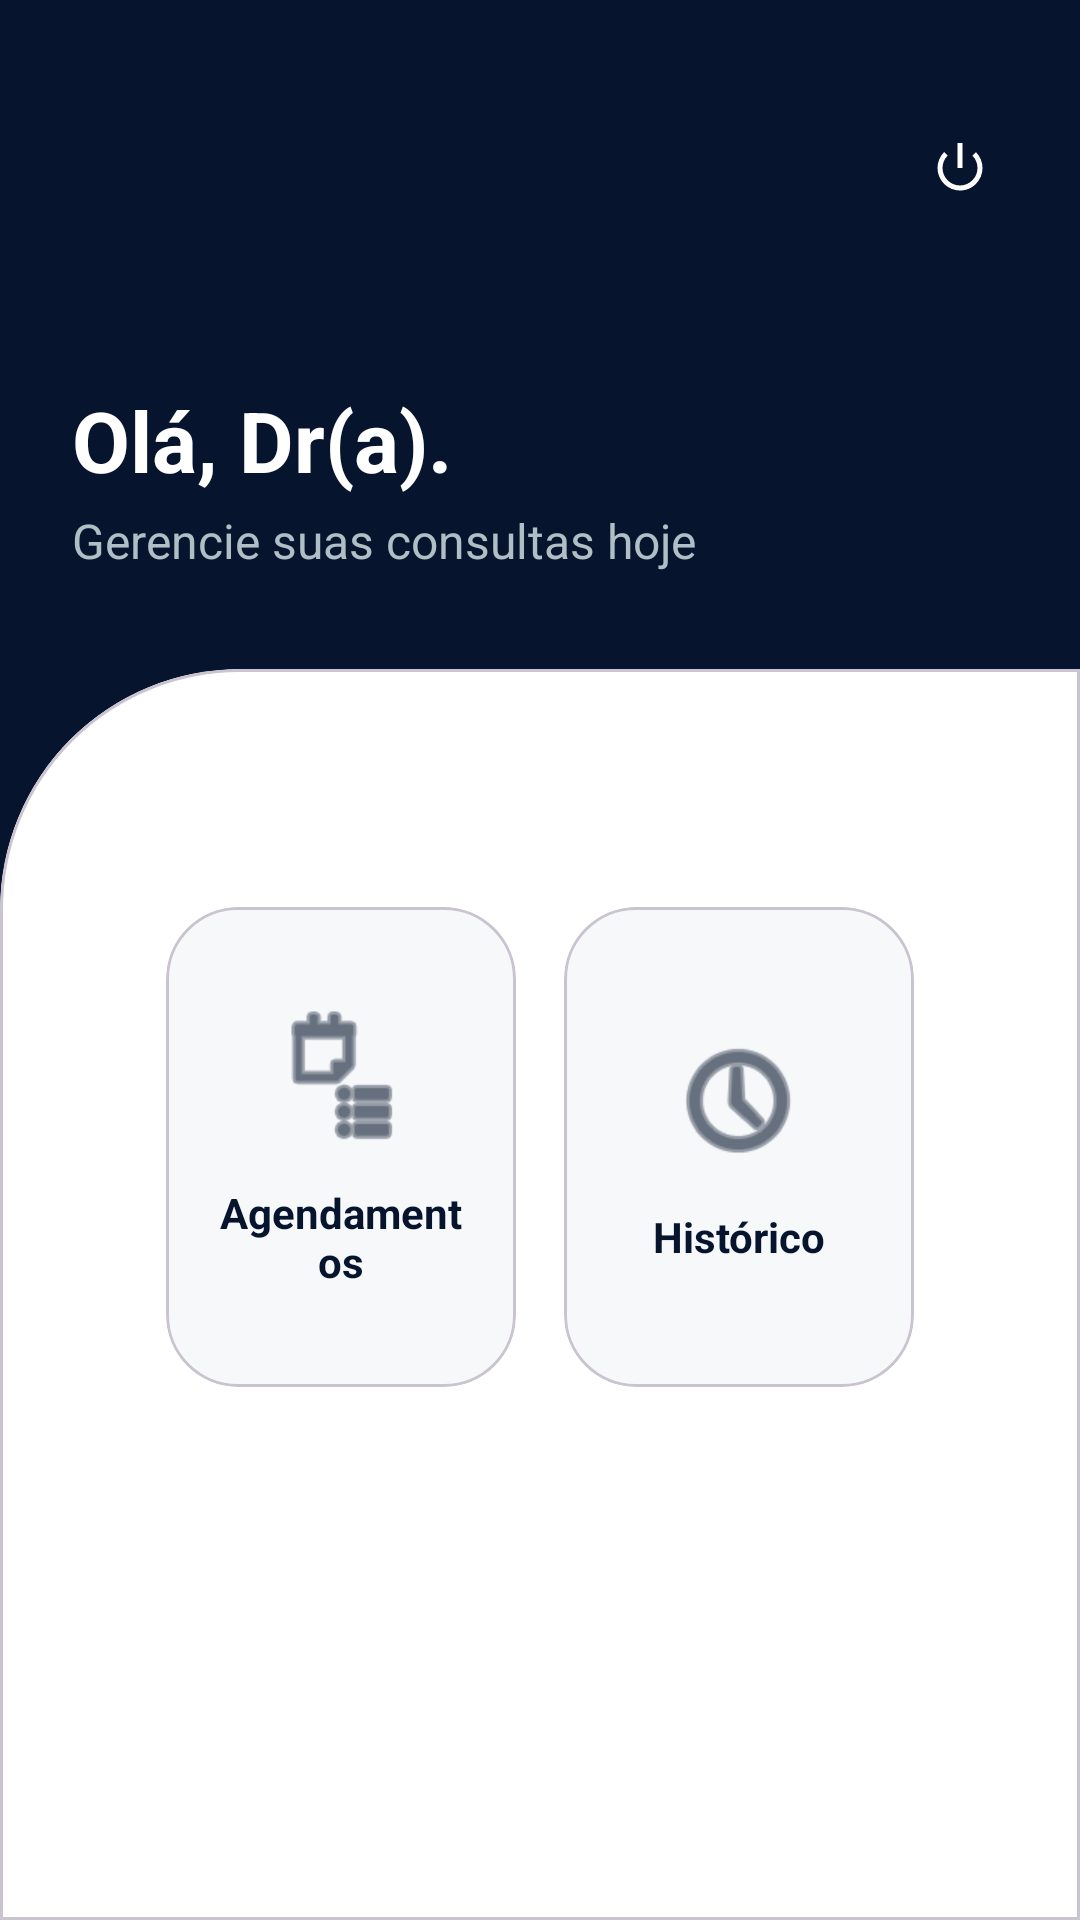

Point at icon controls on the screen. Image size 1080*1920, points as (x=x, y=y).
recent history: (x=738, y=1101)
Sair: (x=960, y=167)
